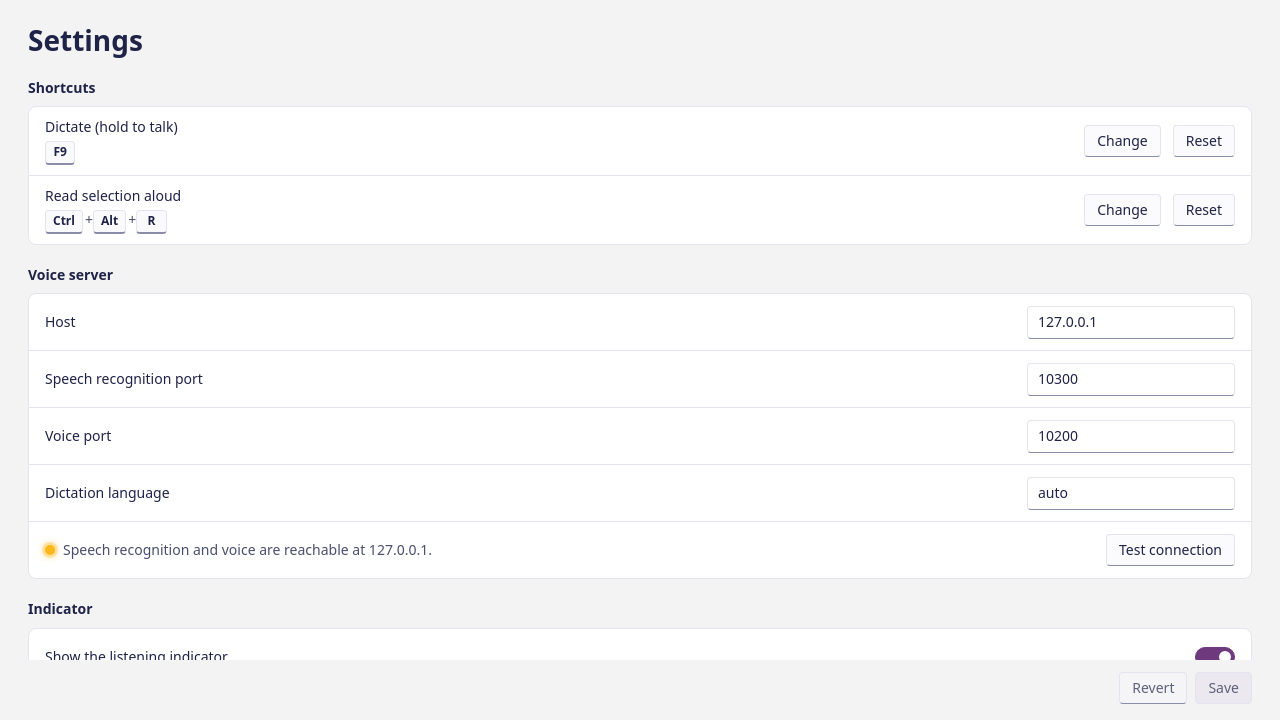
Test case: SettingsWindow fields › saves with Enter and shows the core field error inline
Replace the text in the field labelled "Dictation language" with "English[Enter]" at (1131, 493), box [1027,477,1235,510]
(page scrolled)
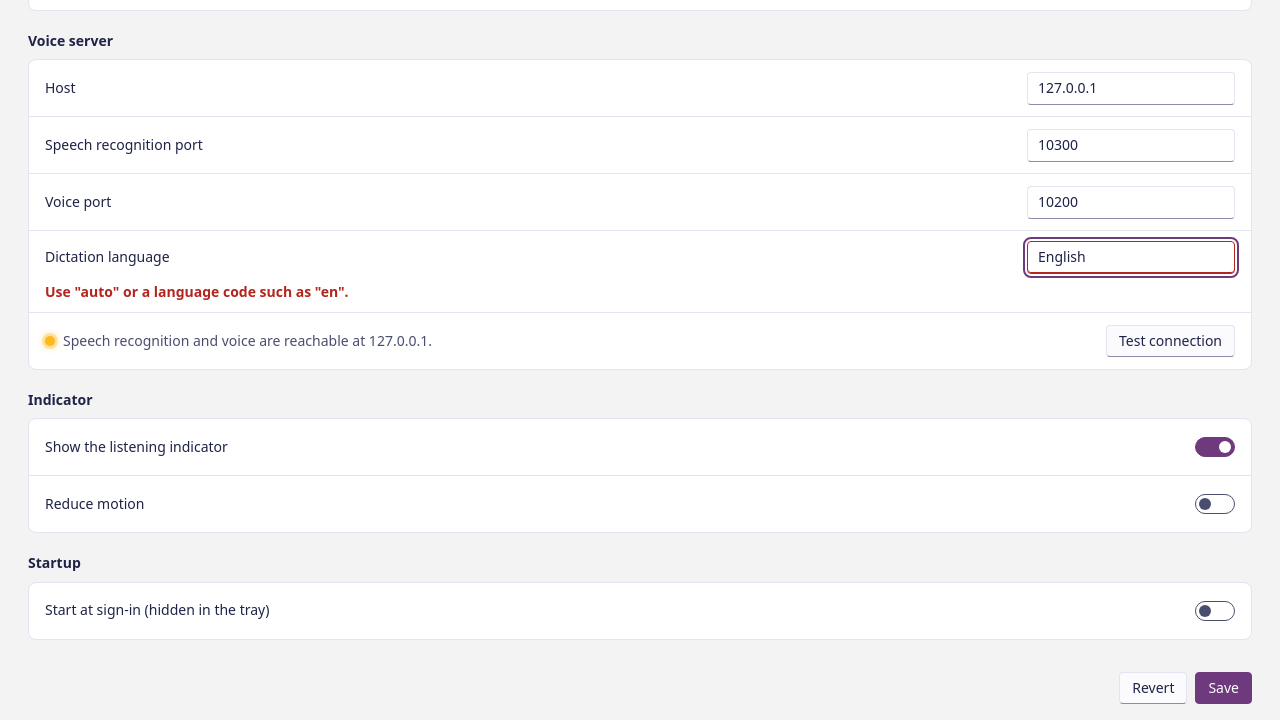
Result: the field labelled "Dictation language" is marked as invalid at [1027,241,1235,274]
